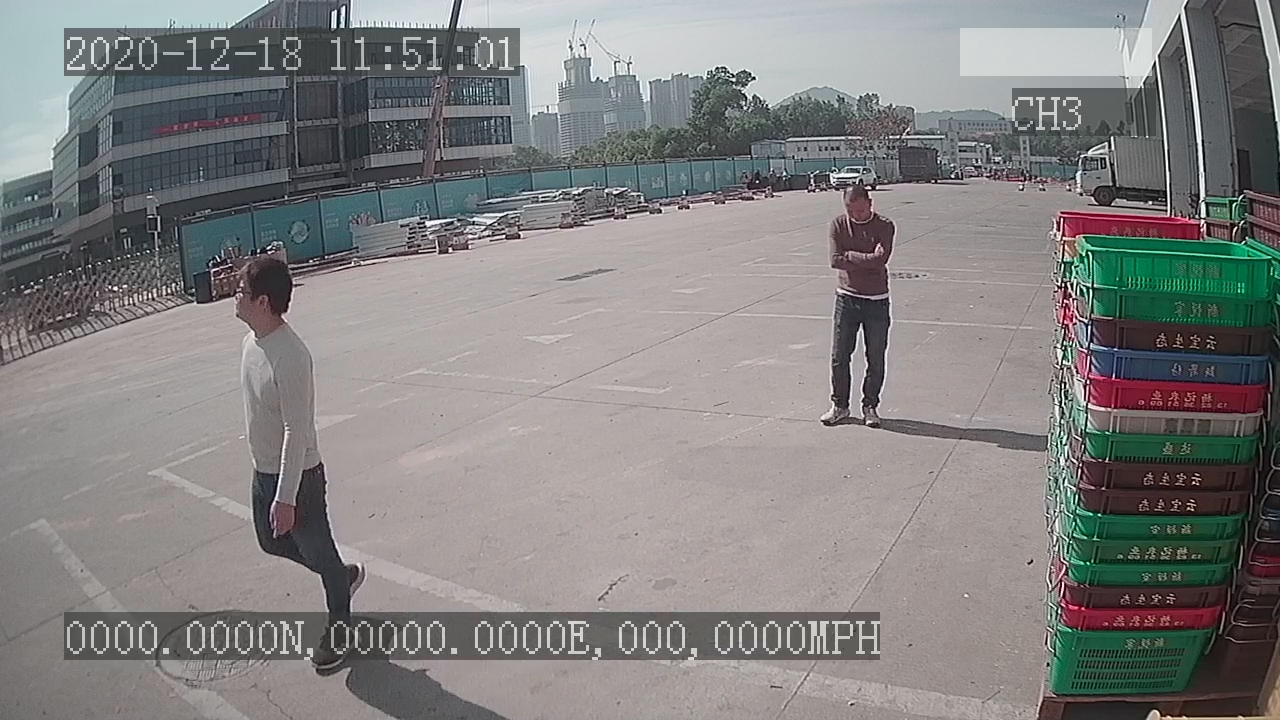person: (815, 179, 904, 435)
